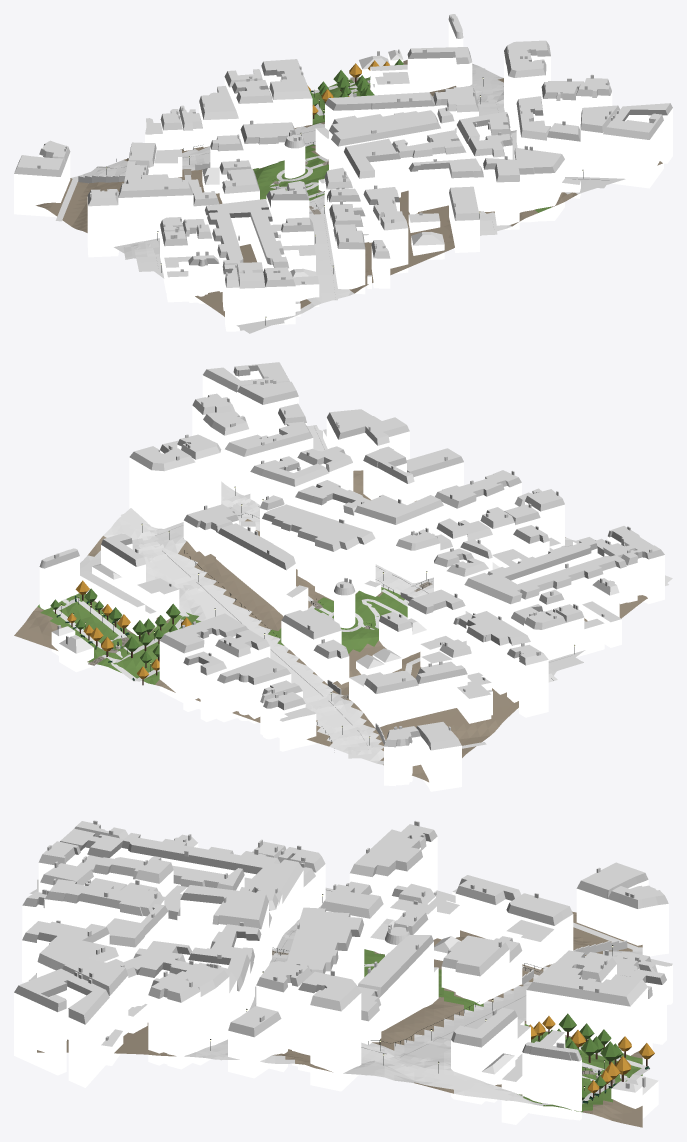
The model's file is zone_C5.glb.
3 renders of one model, top to bottom at view 1: azimuth 30°, elevation 25°; view 2: azimuth 150°, elevation 25°; view 3: azimuth 270°, elevation 25°, orthographic. The views are drawn at different scales.
Visible parts, largest first — view 1: zone_C5_batiments, zone_C5_terrain, zone_C5_sol_NOCOL, zone_C5_decor_NOCOL; view 2: zone_C5_batiments, zone_C5_terrain, zone_C5_sol_NOCOL, zone_C5_decor_NOCOL; view 3: zone_C5_batiments, zone_C5_terrain, zone_C5_sol_NOCOL, zone_C5_decor_NOCOL.
Boxes of the visible parts, bbox=[...] form: zone_C5_batiments: bbox=[14, 14, 672, 331]; zone_C5_terrain: bbox=[36, 60, 662, 333]; zone_C5_sol_NOCOL: bbox=[55, 68, 610, 330]; zone_C5_decor_NOCOL: bbox=[106, 59, 583, 325]; zone_C5_batiments: bbox=[39, 362, 664, 791]; zone_C5_terrain: bbox=[14, 429, 672, 782]; zone_C5_sol_NOCOL: bbox=[53, 425, 668, 763]; zone_C5_decor_NOCOL: bbox=[50, 486, 574, 745]; zone_C5_batiments: bbox=[14, 820, 672, 1124]; zone_C5_terrain: bbox=[37, 879, 642, 1127]; zone_C5_sol_NOCOL: bbox=[28, 887, 650, 1105]; zone_C5_decor_NOCOL: bbox=[210, 894, 654, 1103].
Bounding box in the file's own units: 211 × 68.21 × 199.
